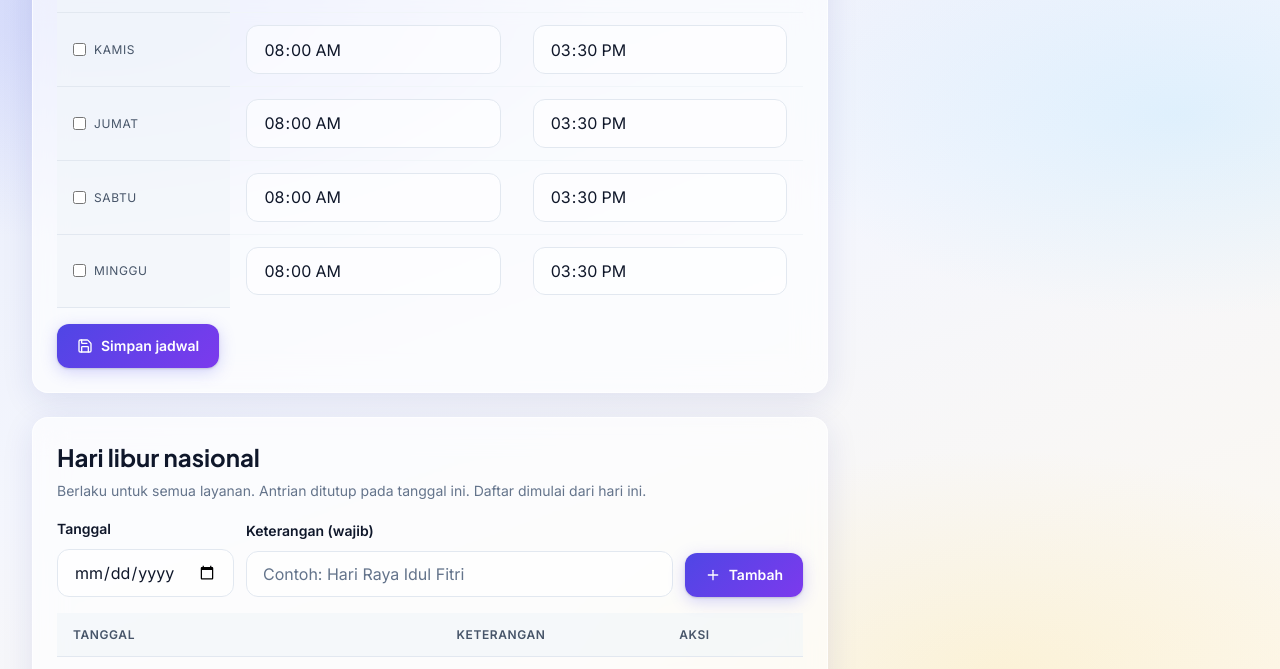
Scenario: admin jadwal: jadwal_standby + hari libur nasional › galat 22023 JADWAL_TIDAK_VALID dari DB ditampilkan sebagai pesan, bukan "berhasil"
(page scrolled)
What coordinates should you click on to do the following:
click the button "Simpan jadwal"
I would click on:
 (138, 346)
Its box is [57, 324, 219, 368].
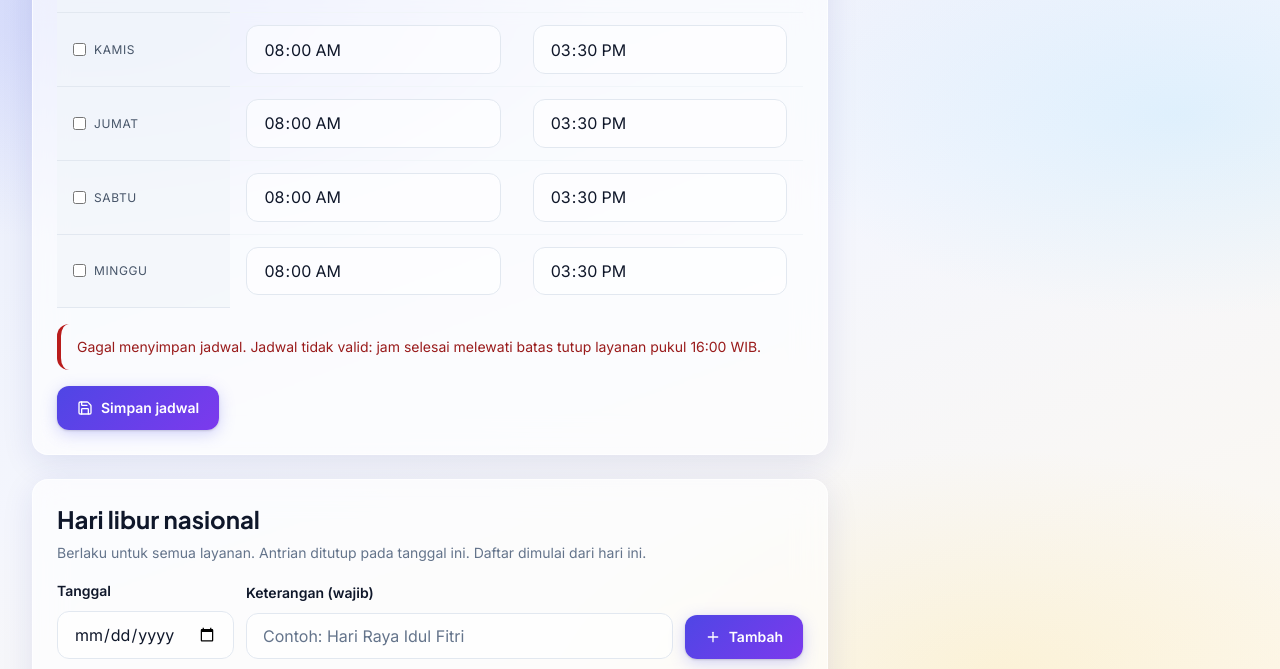
Now the message shows "jam selesai melewati batas tutup layanan pukul 16:00 WIB", box [77, 338, 761, 355]
